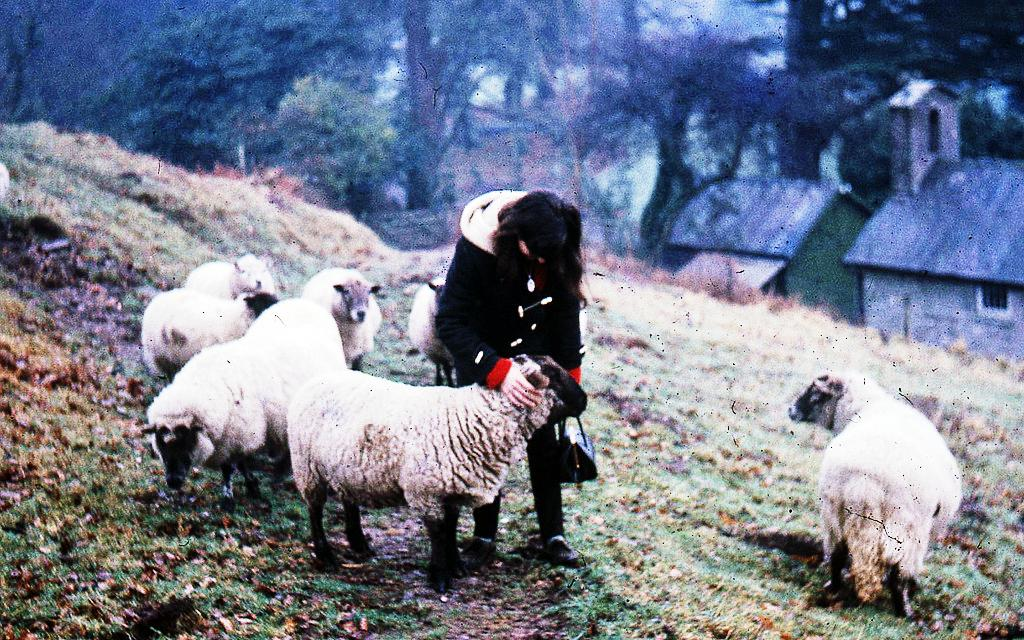Sheep: (286, 352, 589, 574), (788, 372, 960, 617), (141, 341, 340, 511), (144, 287, 280, 380), (300, 260, 388, 373), (180, 251, 279, 307), (407, 269, 450, 395)
